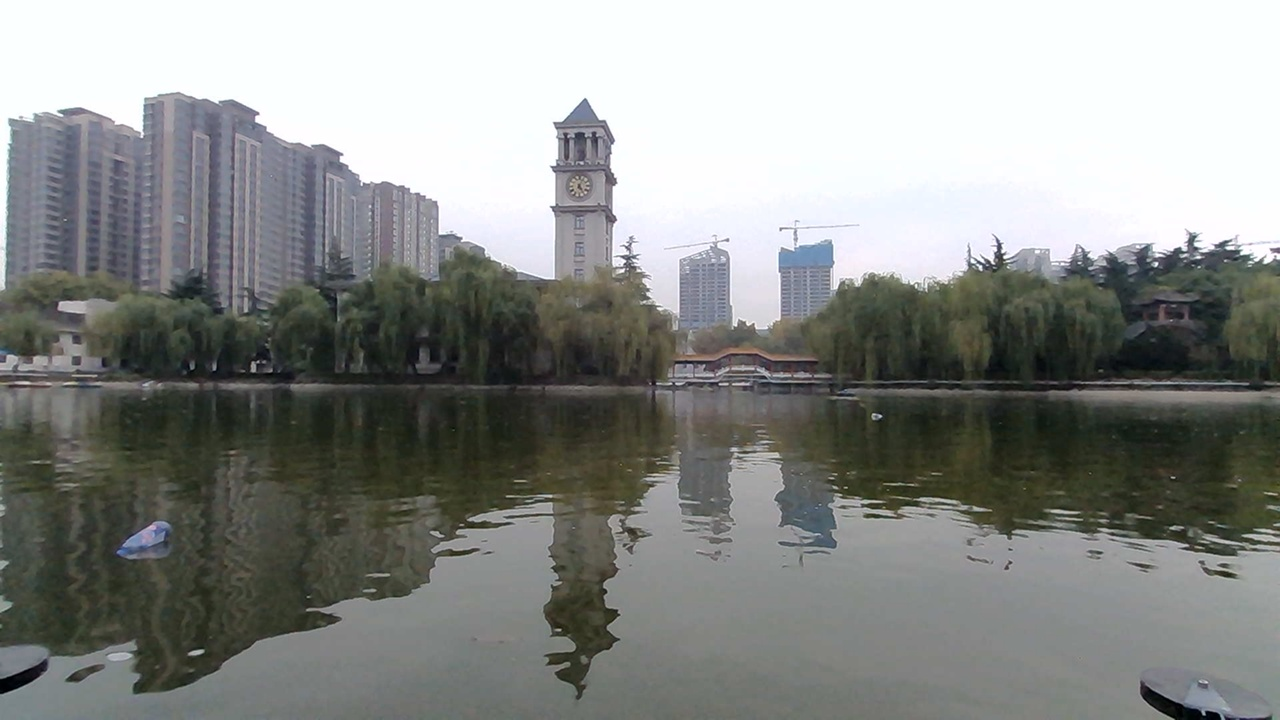bottle: (111, 519, 189, 566), (868, 405, 914, 429)
